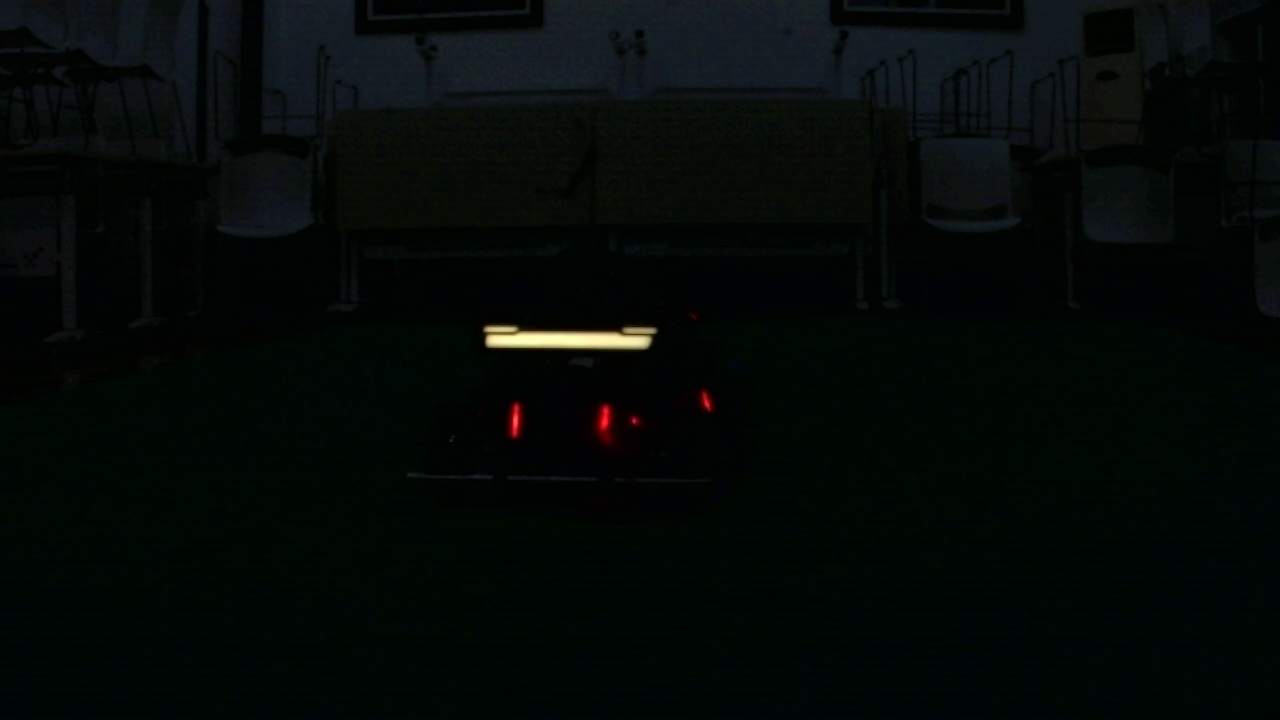lamp: (509, 399, 523, 442), (599, 400, 610, 431)
pair1: (510, 402, 610, 432)
